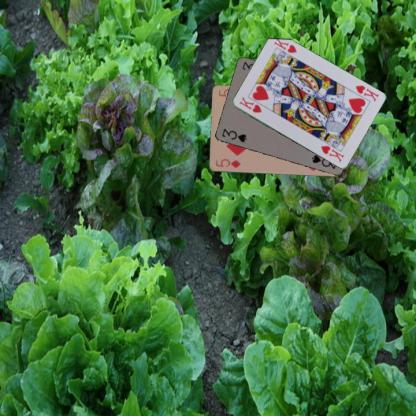3s: (219, 126, 248, 144)
5d: (213, 157, 242, 169)
Kh: (236, 94, 263, 115), (352, 82, 380, 102)
